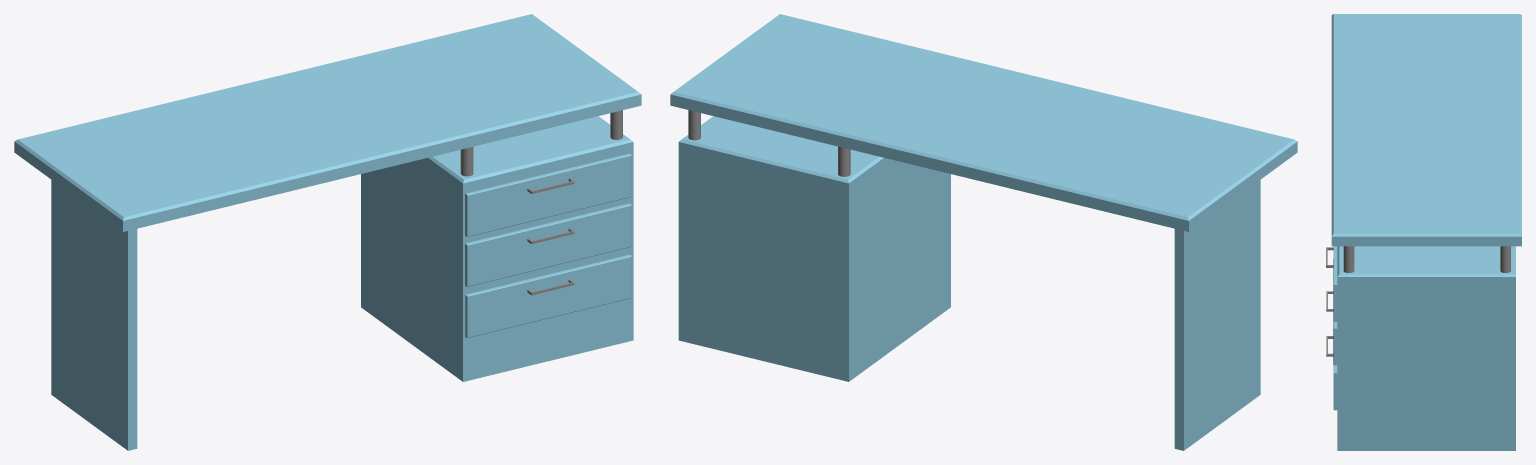
The model's file is FURNITURE_desk_02.FBX.
3 renders of one model, left to right at view 1: azimuth 30°, elevation 25°; view 2: azimuth 150°, elevation 25°; view 3: azimuth 270°, elevation 25°, orthographic. The views are drawn at different scales.
Visible parts, largest first — view 1: FURNITURE_desk_02_base, FURNITURE_desk_02_drawer_01, FURNITURE_desk_02_drawer_03, FURNITURE_desk_02_drawer_02; view 2: FURNITURE_desk_02_base; view 3: FURNITURE_desk_02_base, FURNITURE_desk_02_drawer_02, FURNITURE_desk_02_drawer_01, FURNITURE_desk_02_drawer_03.
Boxes of the visible parts, x1=… form: FURNITURE_desk_02_base: x1=14, y1=14, x2=641, y2=450; FURNITURE_desk_02_drawer_01: x1=465, y1=203, x2=631, y2=286; FURNITURE_desk_02_drawer_03: x1=465, y1=254, x2=631, y2=338; FURNITURE_desk_02_drawer_02: x1=465, y1=153, x2=631, y2=236; FURNITURE_desk_02_base: x1=670, y1=14, x2=1297, y2=450; FURNITURE_desk_02_base: x1=1331, y1=14, x2=1521, y2=450; FURNITURE_desk_02_drawer_02: x1=1326, y1=246, x2=1337, y2=321; FURNITURE_desk_02_drawer_01: x1=1326, y1=259, x2=1337, y2=365; FURNITURE_desk_02_drawer_03: x1=1326, y1=336, x2=1337, y2=410.
Bounding box in the file's own units: 240 × 111 × 89.84.
